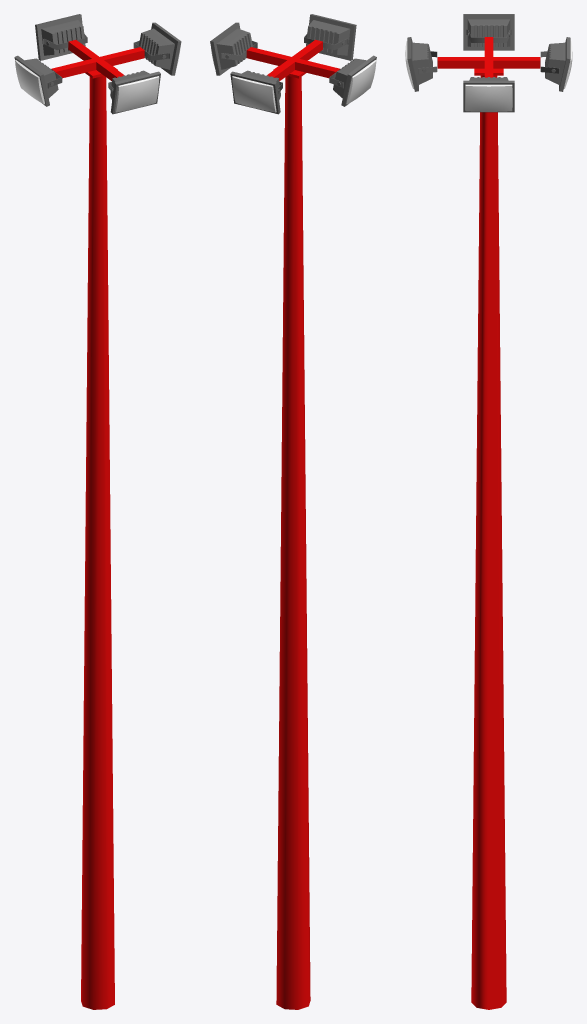
Rendered from Light_2.fbx.
The picture shows the model from 3 angles, left to right: view 1: azimuth 30°, elevation 25°; view 2: azimuth 150°, elevation 25°; view 3: azimuth 270°, elevation 25°; orthographic projection.
Visible parts, largest first — view 1: Light_2; view 2: Light_2; view 3: Light_2.
Part boxes in pixels (x1=…): Light_2: x1=14, y1=14, x2=181, y2=1009; Light_2: x1=210, y1=14, x2=376, y2=1009; Light_2: x1=405, y1=14, x2=572, y2=1009.
Bounding box in the file's own units: 114 × 716 × 114.
